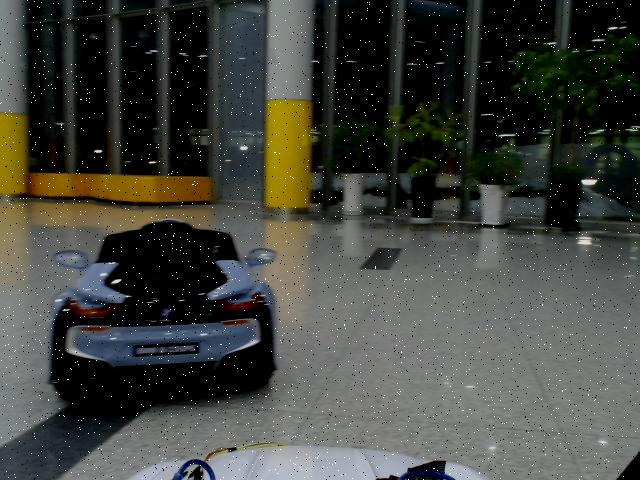car: (47, 219, 281, 397)
